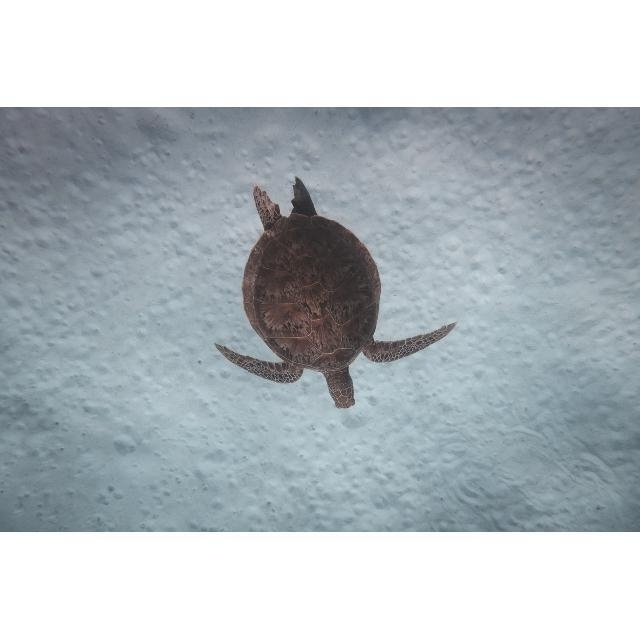turtle: (214, 175, 458, 409)
